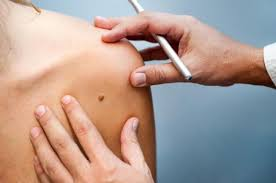mole: (93, 91, 107, 106)
